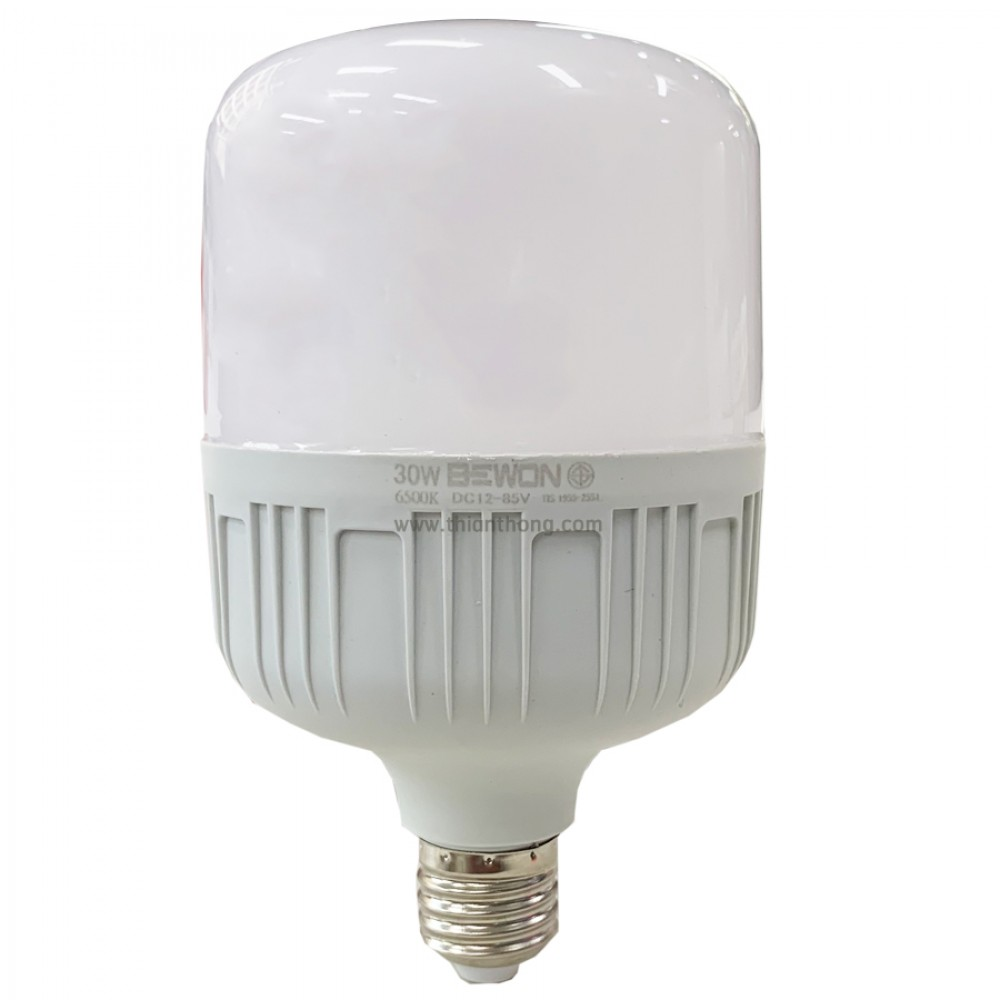Light_bulb: (183, 6, 785, 991)
